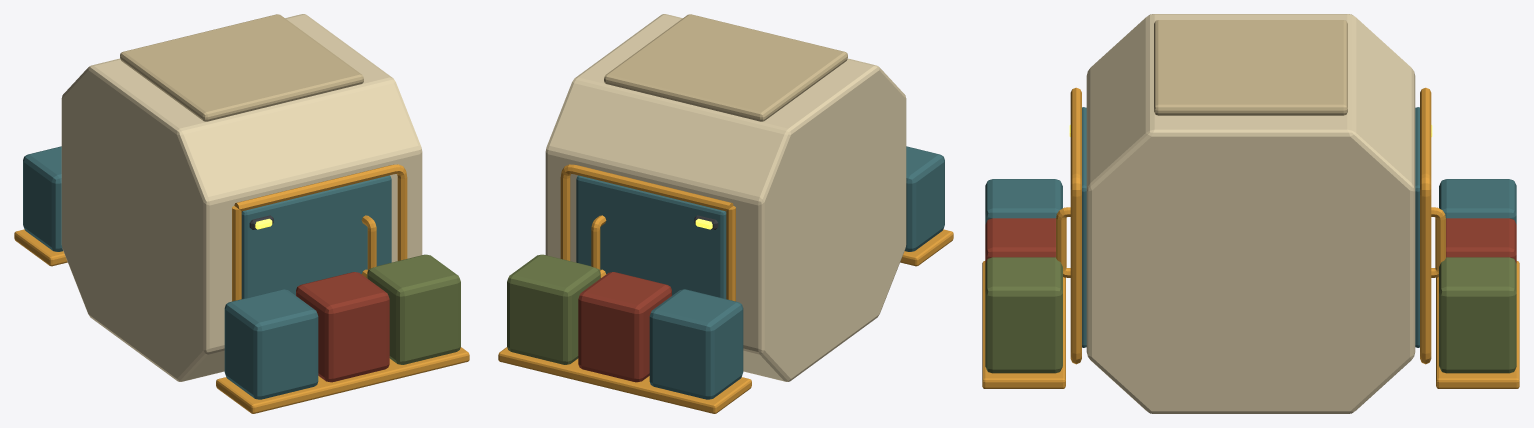
The model's file is cargo-mk2.glb.
3 views of the same model, side by side, from view 1: azimuth 30°, elevation 25°; view 2: azimuth 150°, elevation 25°; view 3: azimuth 270°, elevation 25° (orthographic). The views are drawn at different scales.
Parts seen in each view (by area): view 1: cargo_mk2 body; view 2: cargo_mk2 body; view 3: cargo_mk2 body.
Boxes of the visible parts, <box> form: cargo_mk2 body: <box>14,14,469,413</box>; cargo_mk2 body: <box>498,14,953,413</box>; cargo_mk2 body: <box>982,14,1519,413</box>.
Bounding box in the file's own units: 1.9 × 2.17 × 3.6.
